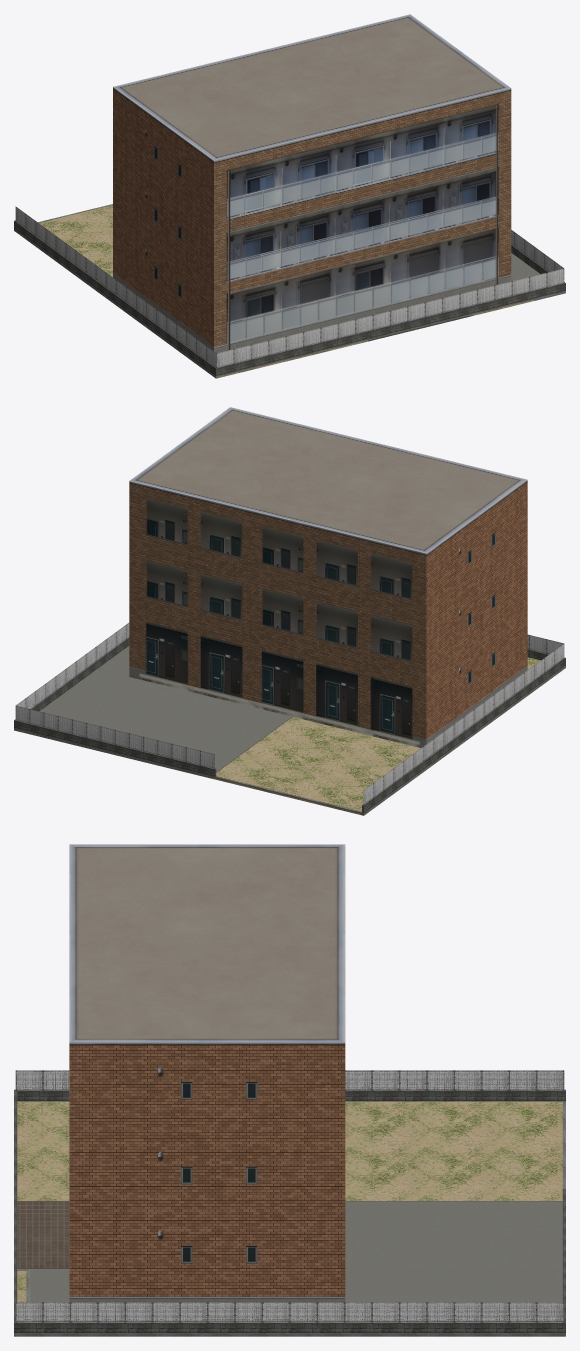
The model's file is Apartment_lightbrown.fbx.
The picture shows the model from 3 angles, top to bottom: view 1: azimuth 30°, elevation 25°; view 2: azimuth 150°, elevation 25°; view 3: azimuth 270°, elevation 25°; orthographic projection. The views are drawn at different scales.
Visible parts, largest first — view 1: 100_Apartment_lightbrown, 200_Fence_Apartment_lightbrown, 000_Site_Apartment_lightbrown; view 2: 100_Apartment_lightbrown, 000_Site_Apartment_lightbrown, 200_Fence_Apartment_lightbrown; view 3: 100_Apartment_lightbrown, 000_Site_Apartment_lightbrown, 200_Fence_Apartment_lightbrown.
Boxes of the visible parts, x1,y1,x2,y2 form: 100_Apartment_lightbrown: (113,14,511,353); 200_Fence_Apartment_lightbrown: (14,206,565,375); 000_Site_Apartment_lightbrown: (14,204,565,378); 100_Apartment_lightbrown: (129,407,527,747); 000_Site_Apartment_lightbrown: (14,646,565,815); 200_Fence_Apartment_lightbrown: (14,623,565,812); 100_Apartment_lightbrown: (69,844,345,1302); 000_Site_Apartment_lightbrown: (14,1101,565,1336); 200_Fence_Apartment_lightbrown: (14,1070,565,1332).
Size of the model in its own units: 20 by 10.85 by 20.
